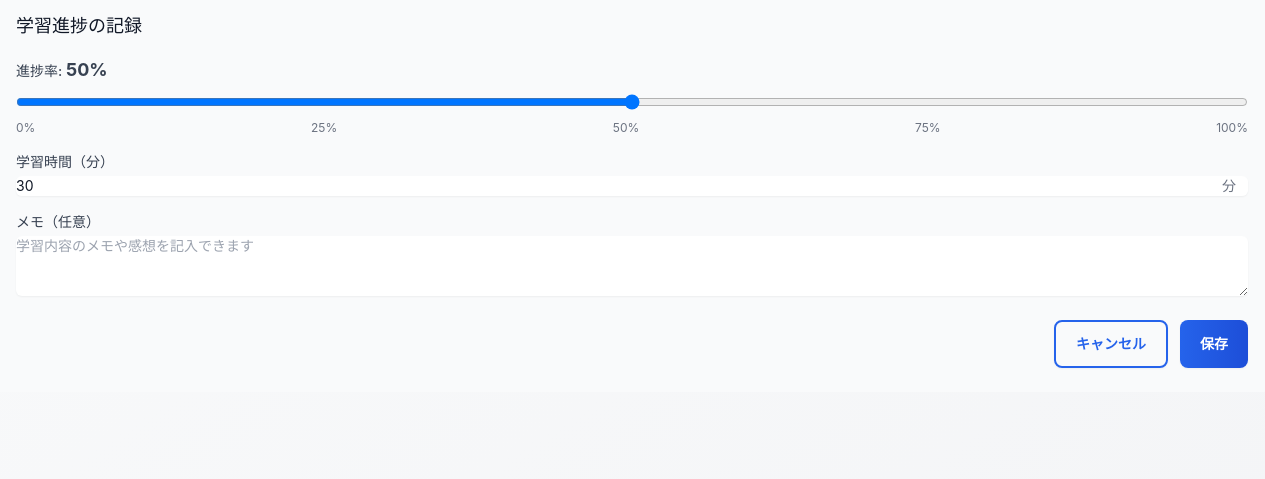
Scenario: ManualProgressForm › displays error message when submission fails
Step 1. Click the button "保存" → (1214, 344), box [1180, 320, 1248, 368]
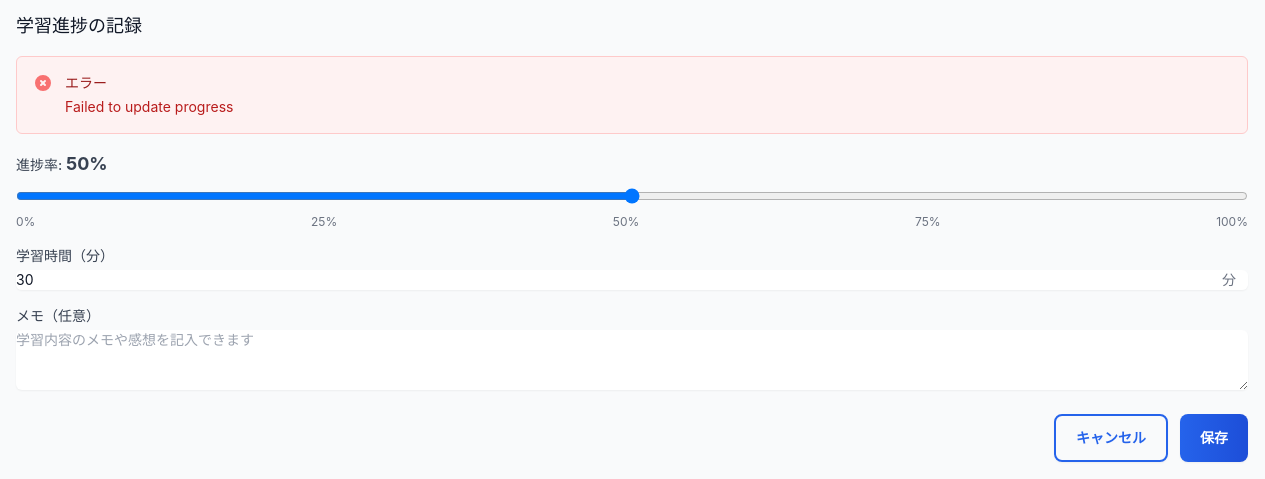
Expected: the text "Failed to update progress" is shown, [65, 97, 233, 117]
